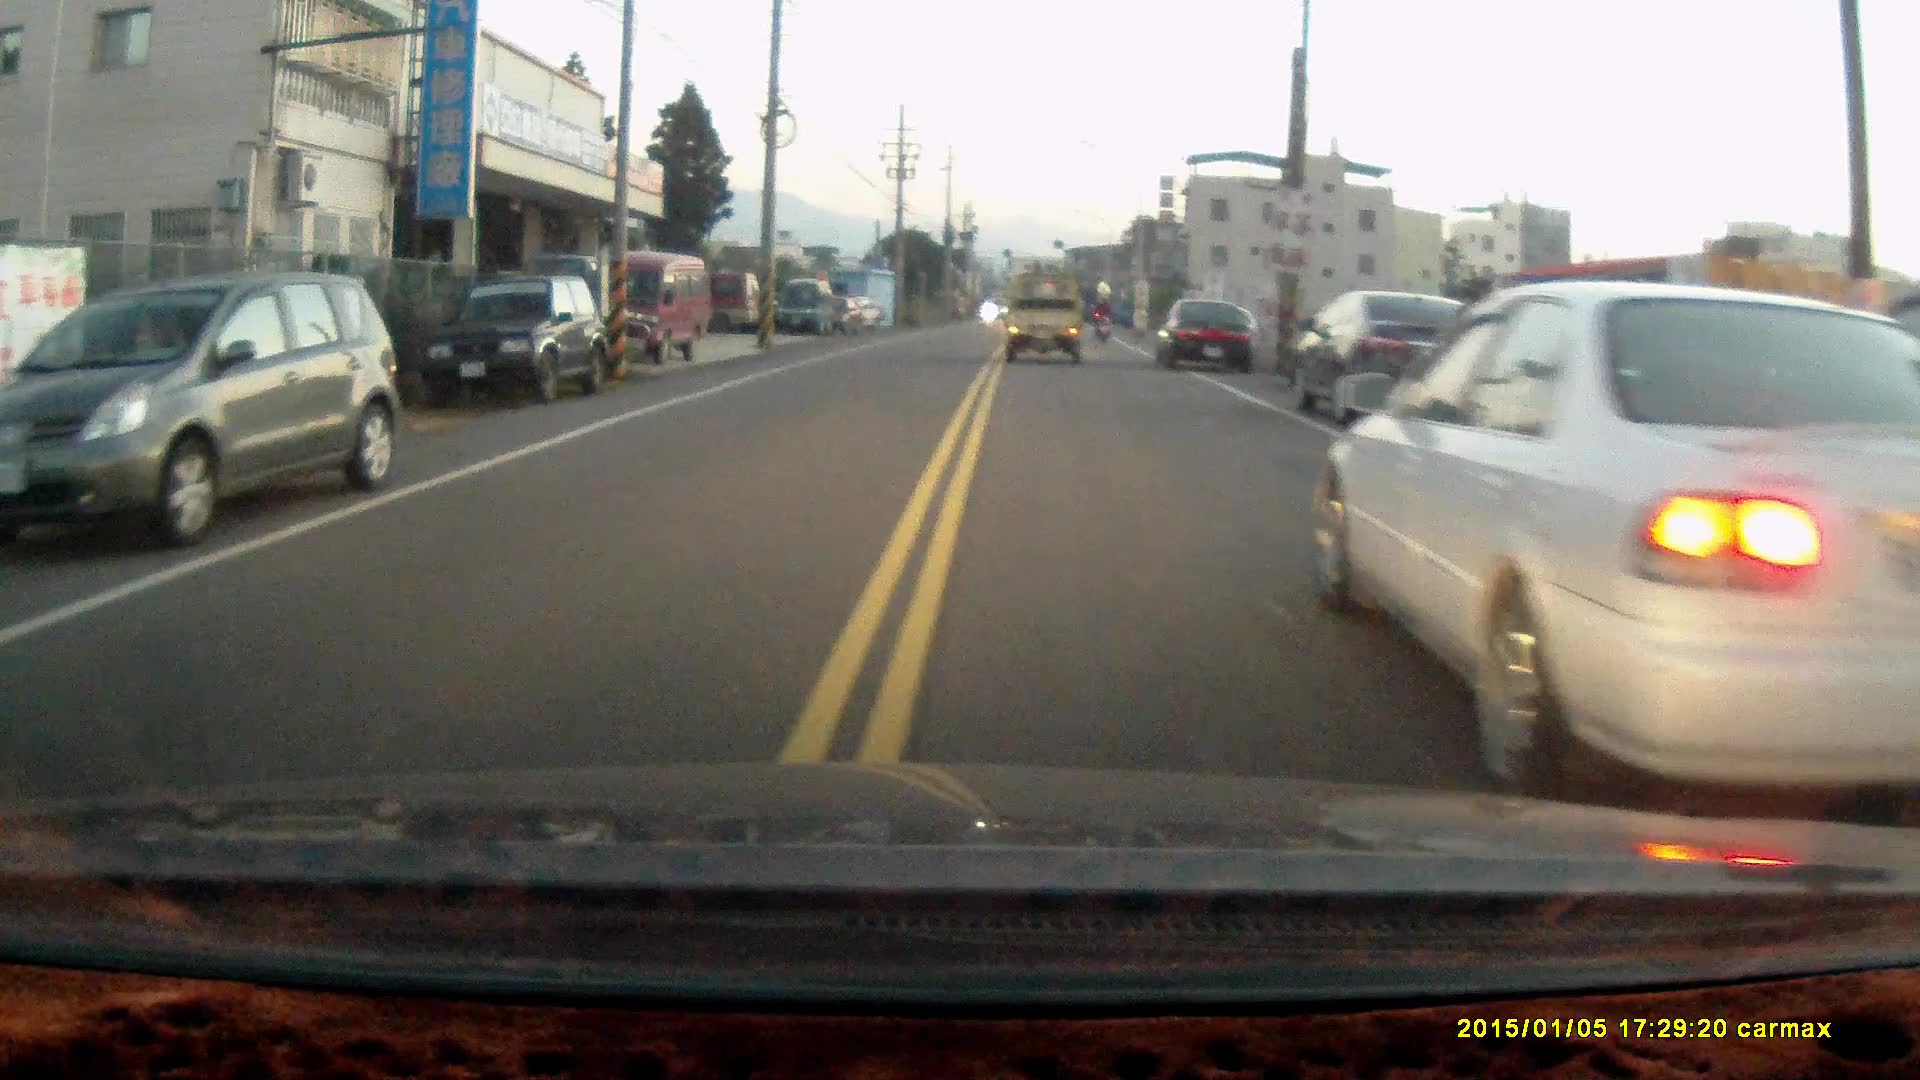rider: (1089, 294, 1115, 342)
vehicle: (1306, 270, 1920, 814), (1, 276, 405, 557), (1289, 286, 1507, 433), (425, 272, 606, 405), (571, 252, 712, 366), (997, 275, 1092, 361), (1156, 296, 1262, 371), (778, 277, 841, 337)
